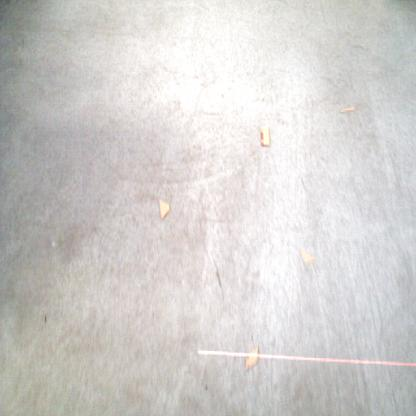dirty: (244, 342, 260, 372), (157, 197, 171, 221), (297, 249, 316, 265), (259, 126, 271, 148), (338, 104, 356, 114)
mark: (214, 267, 223, 289), (42, 313, 48, 326), (202, 382, 208, 391)
